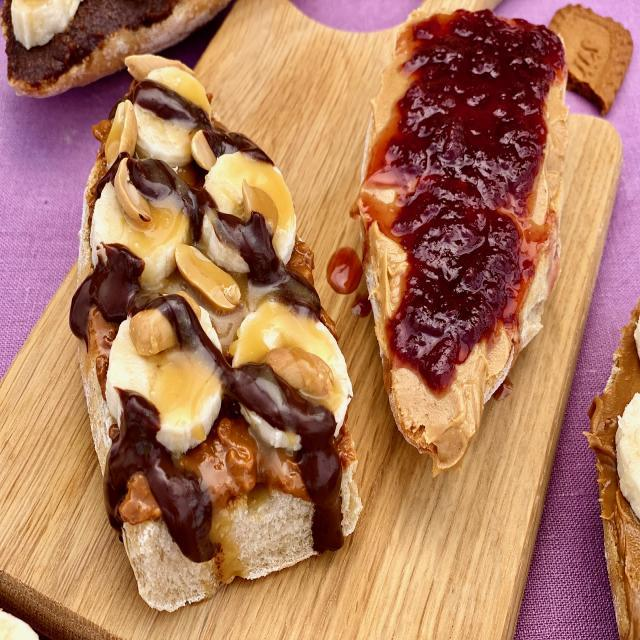Spread: (401, 47, 515, 335)
